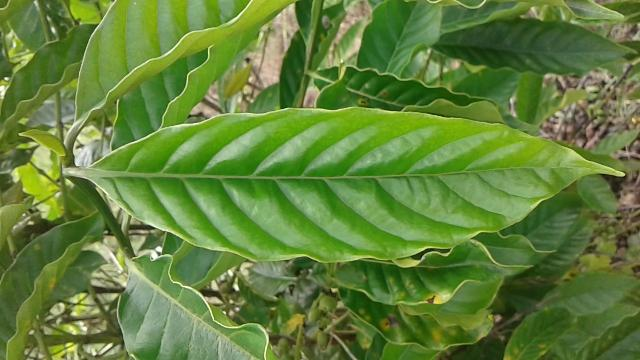healthy: (86, 104, 632, 266)
